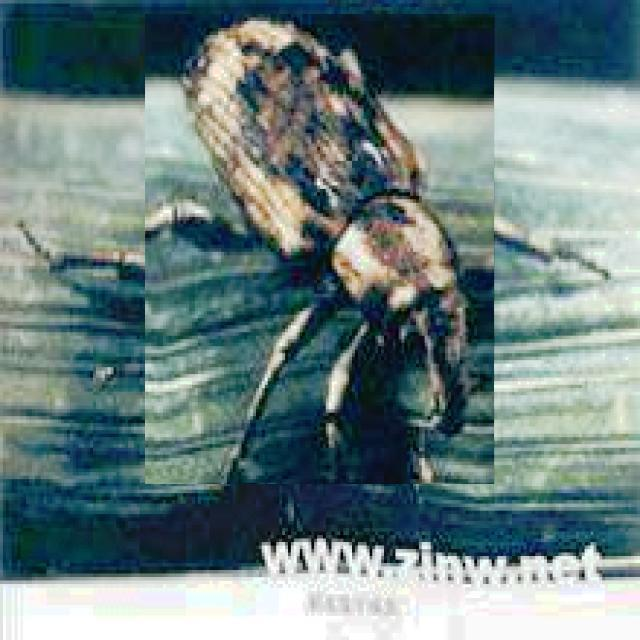rice-bug: (146, 14, 496, 484)
